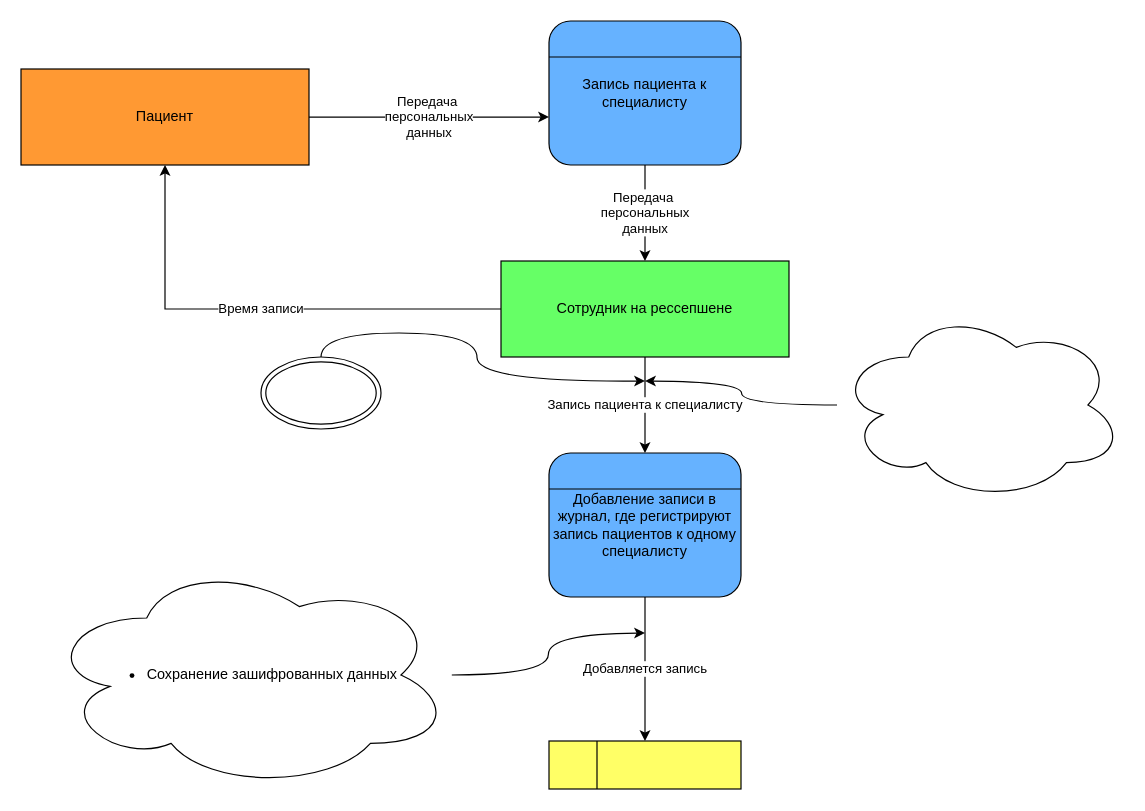
Some shapes in this 1145 by 811 pixel diagram are drawn without their labels. The shapes that lost their labels are listed below. From the top down, each one's centre as x and y in pixels, then its label:
At (320,392): "тег: PII".
At (980,404): "Двойная аутентификация авторизация токенезация перс.данных.".
At (644,764): "Excel файл: журнал".
